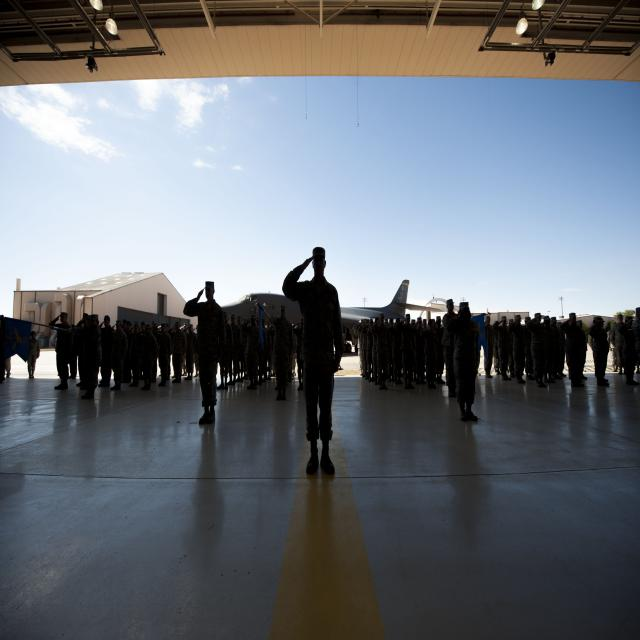MIL_Plane: (221, 278, 444, 351)
